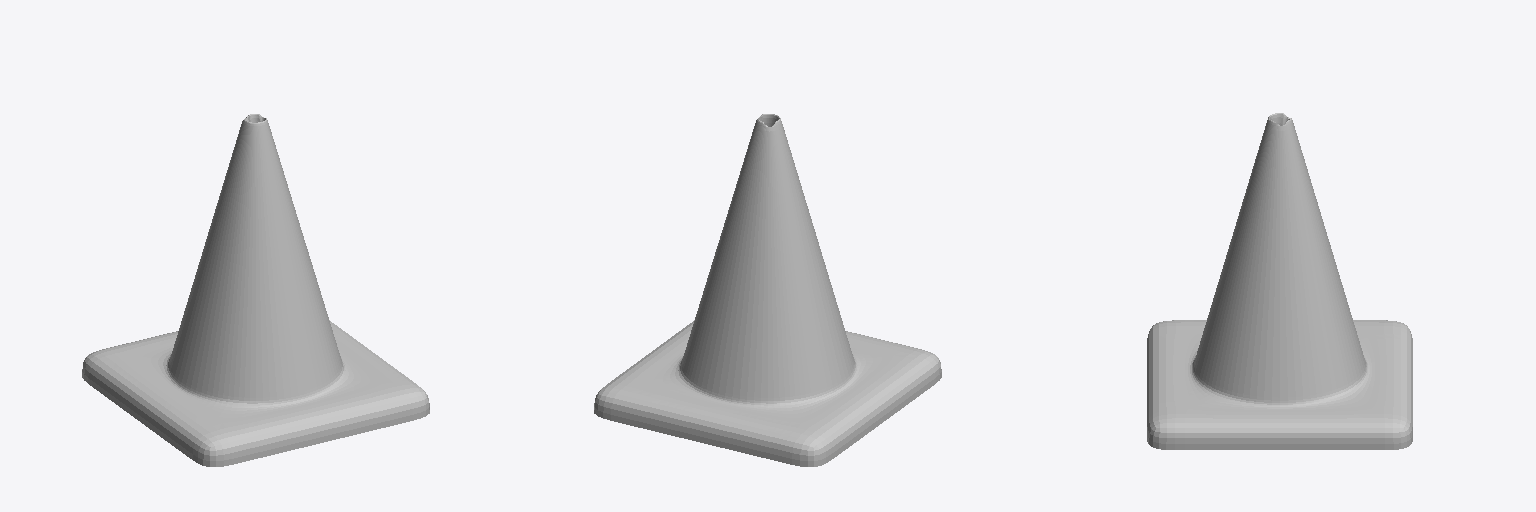
The model's file is safetycone.obj.
3 views of the same model, side by side, from view 1: azimuth 30°, elevation 25°; view 2: azimuth 150°, elevation 25°; view 3: azimuth 270°, elevation 25° (orthographic).
Visible parts, largest first — view 1: Plane; view 2: Plane; view 3: Plane.
Boxes of the visible parts, <box> form: Plane: <box>82,114,429,466</box>; Plane: <box>594,114,941,466</box>; Plane: <box>1147,113,1412,449</box>.
Bounding box in the file's own units: 2 × 2.28 × 2.